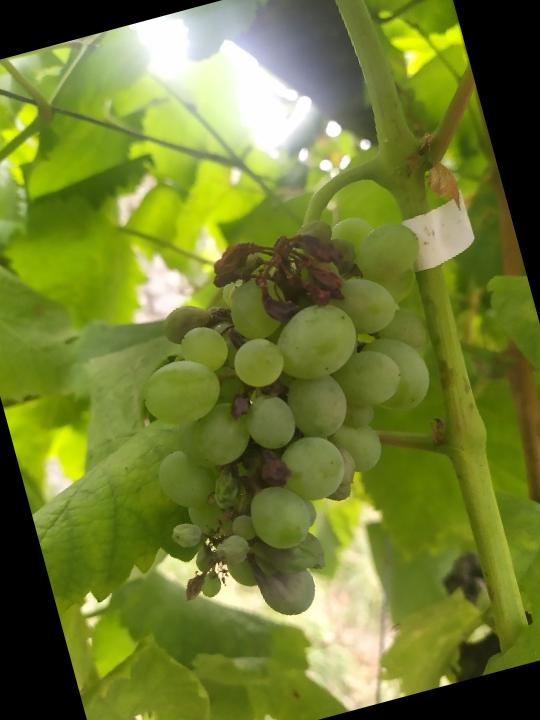grape: (96, 191, 509, 647)
